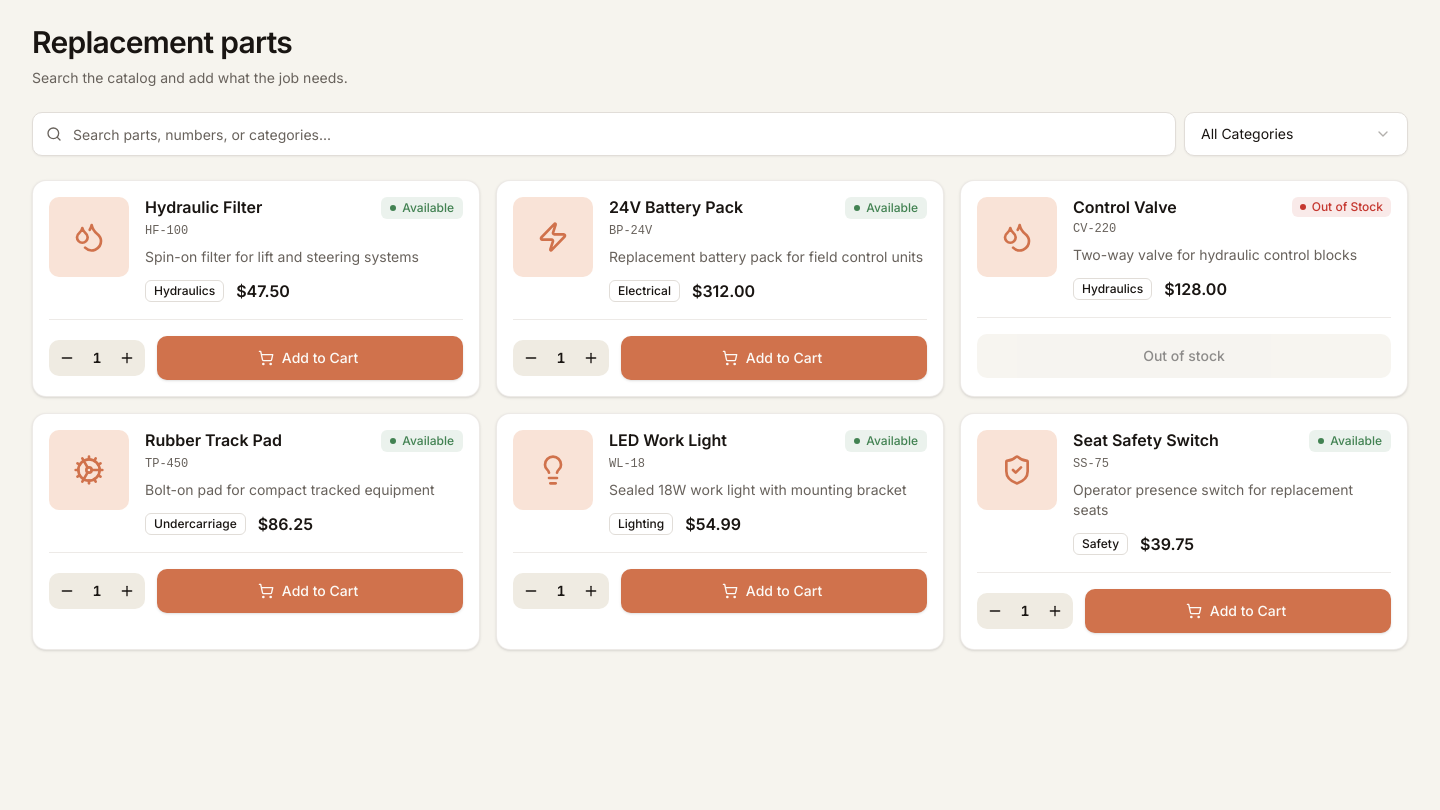
Test: Parts app › submits cart items via the drawer and shows the pending request
Click the button with aria-label "Add Hydraulic Filter". click: [310, 358]
box: x1=157 y1=336 x2=463 y2=380
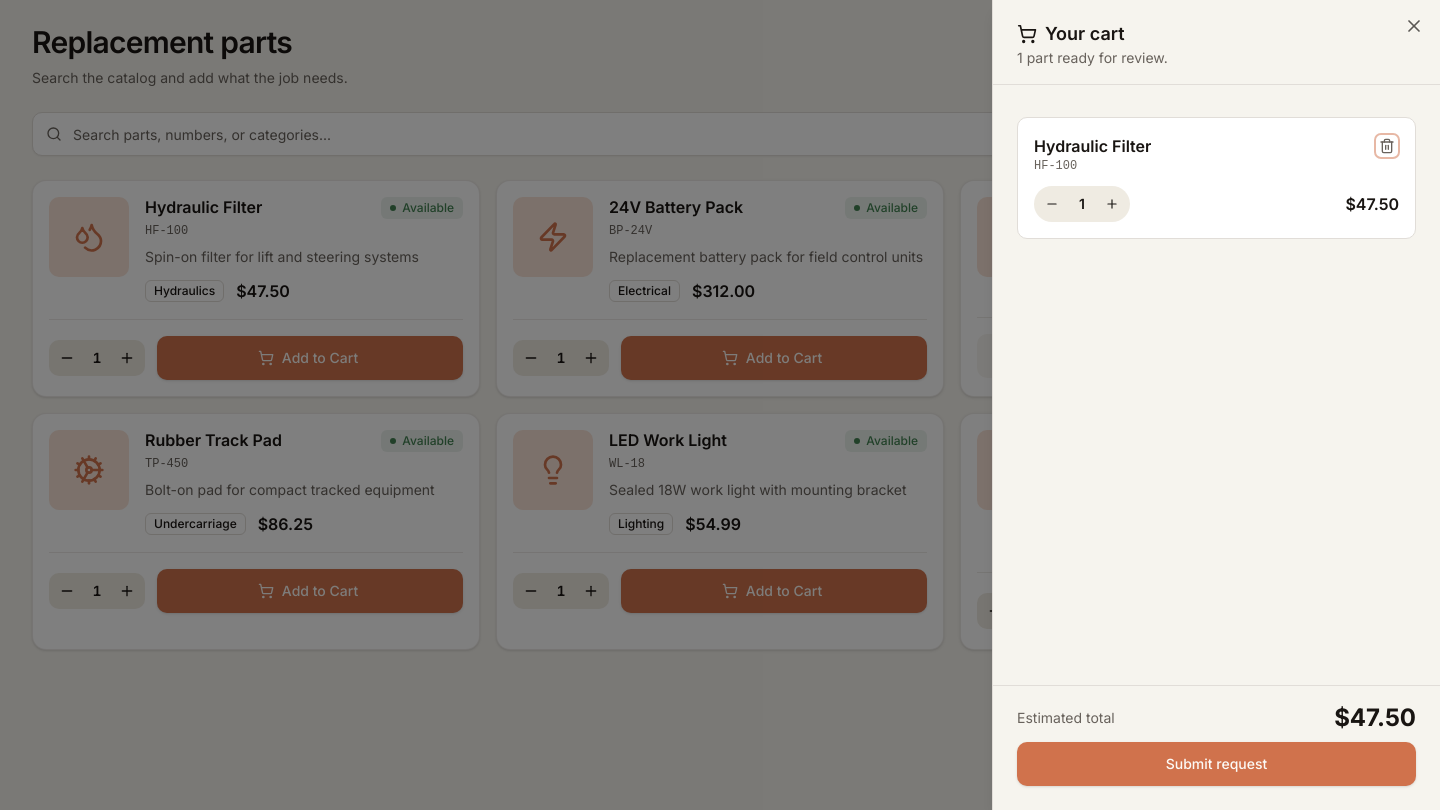
Check: the text "Estimated total" is shown, box x1=1017 y1=708 x2=1115 y2=728
Click the button "Submit request". click: [1216, 764]
box: x1=1017 y1=742 x2=1416 y2=786
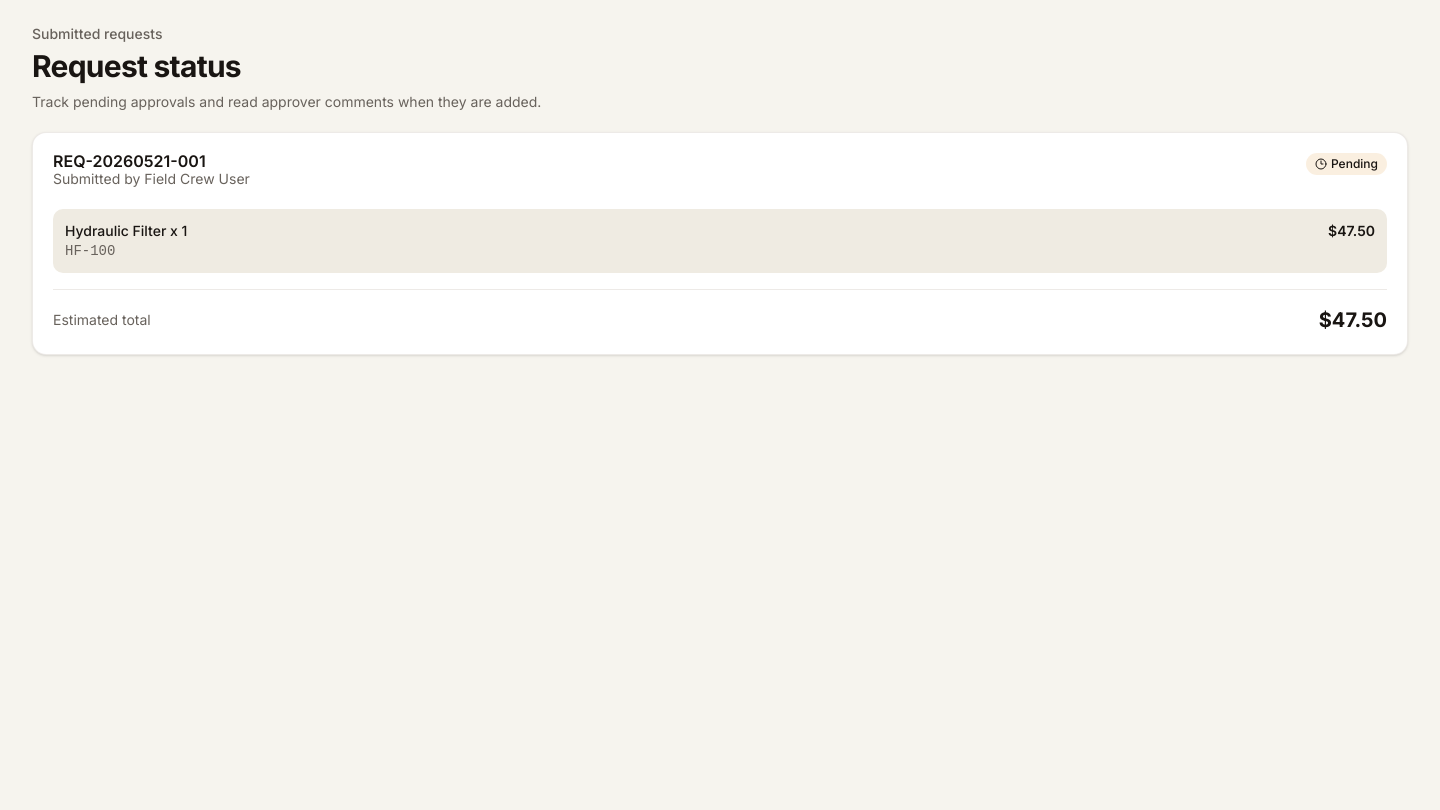
Check: the text "REQ-20260521-001" is shown, box x1=53 y1=151 x2=206 y2=171
Check: the text "Pending" is shown, box x1=1306 y1=153 x2=1387 y2=175
Check: the text "Hydraulic Filter x 1" is shown, box x1=65 y1=221 x2=187 y2=241
